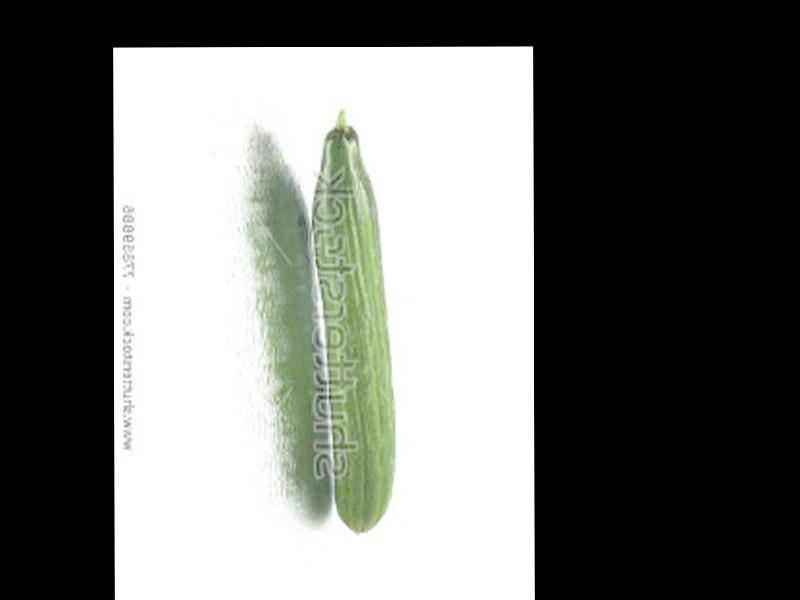Cucumber: (311, 110, 397, 530)
